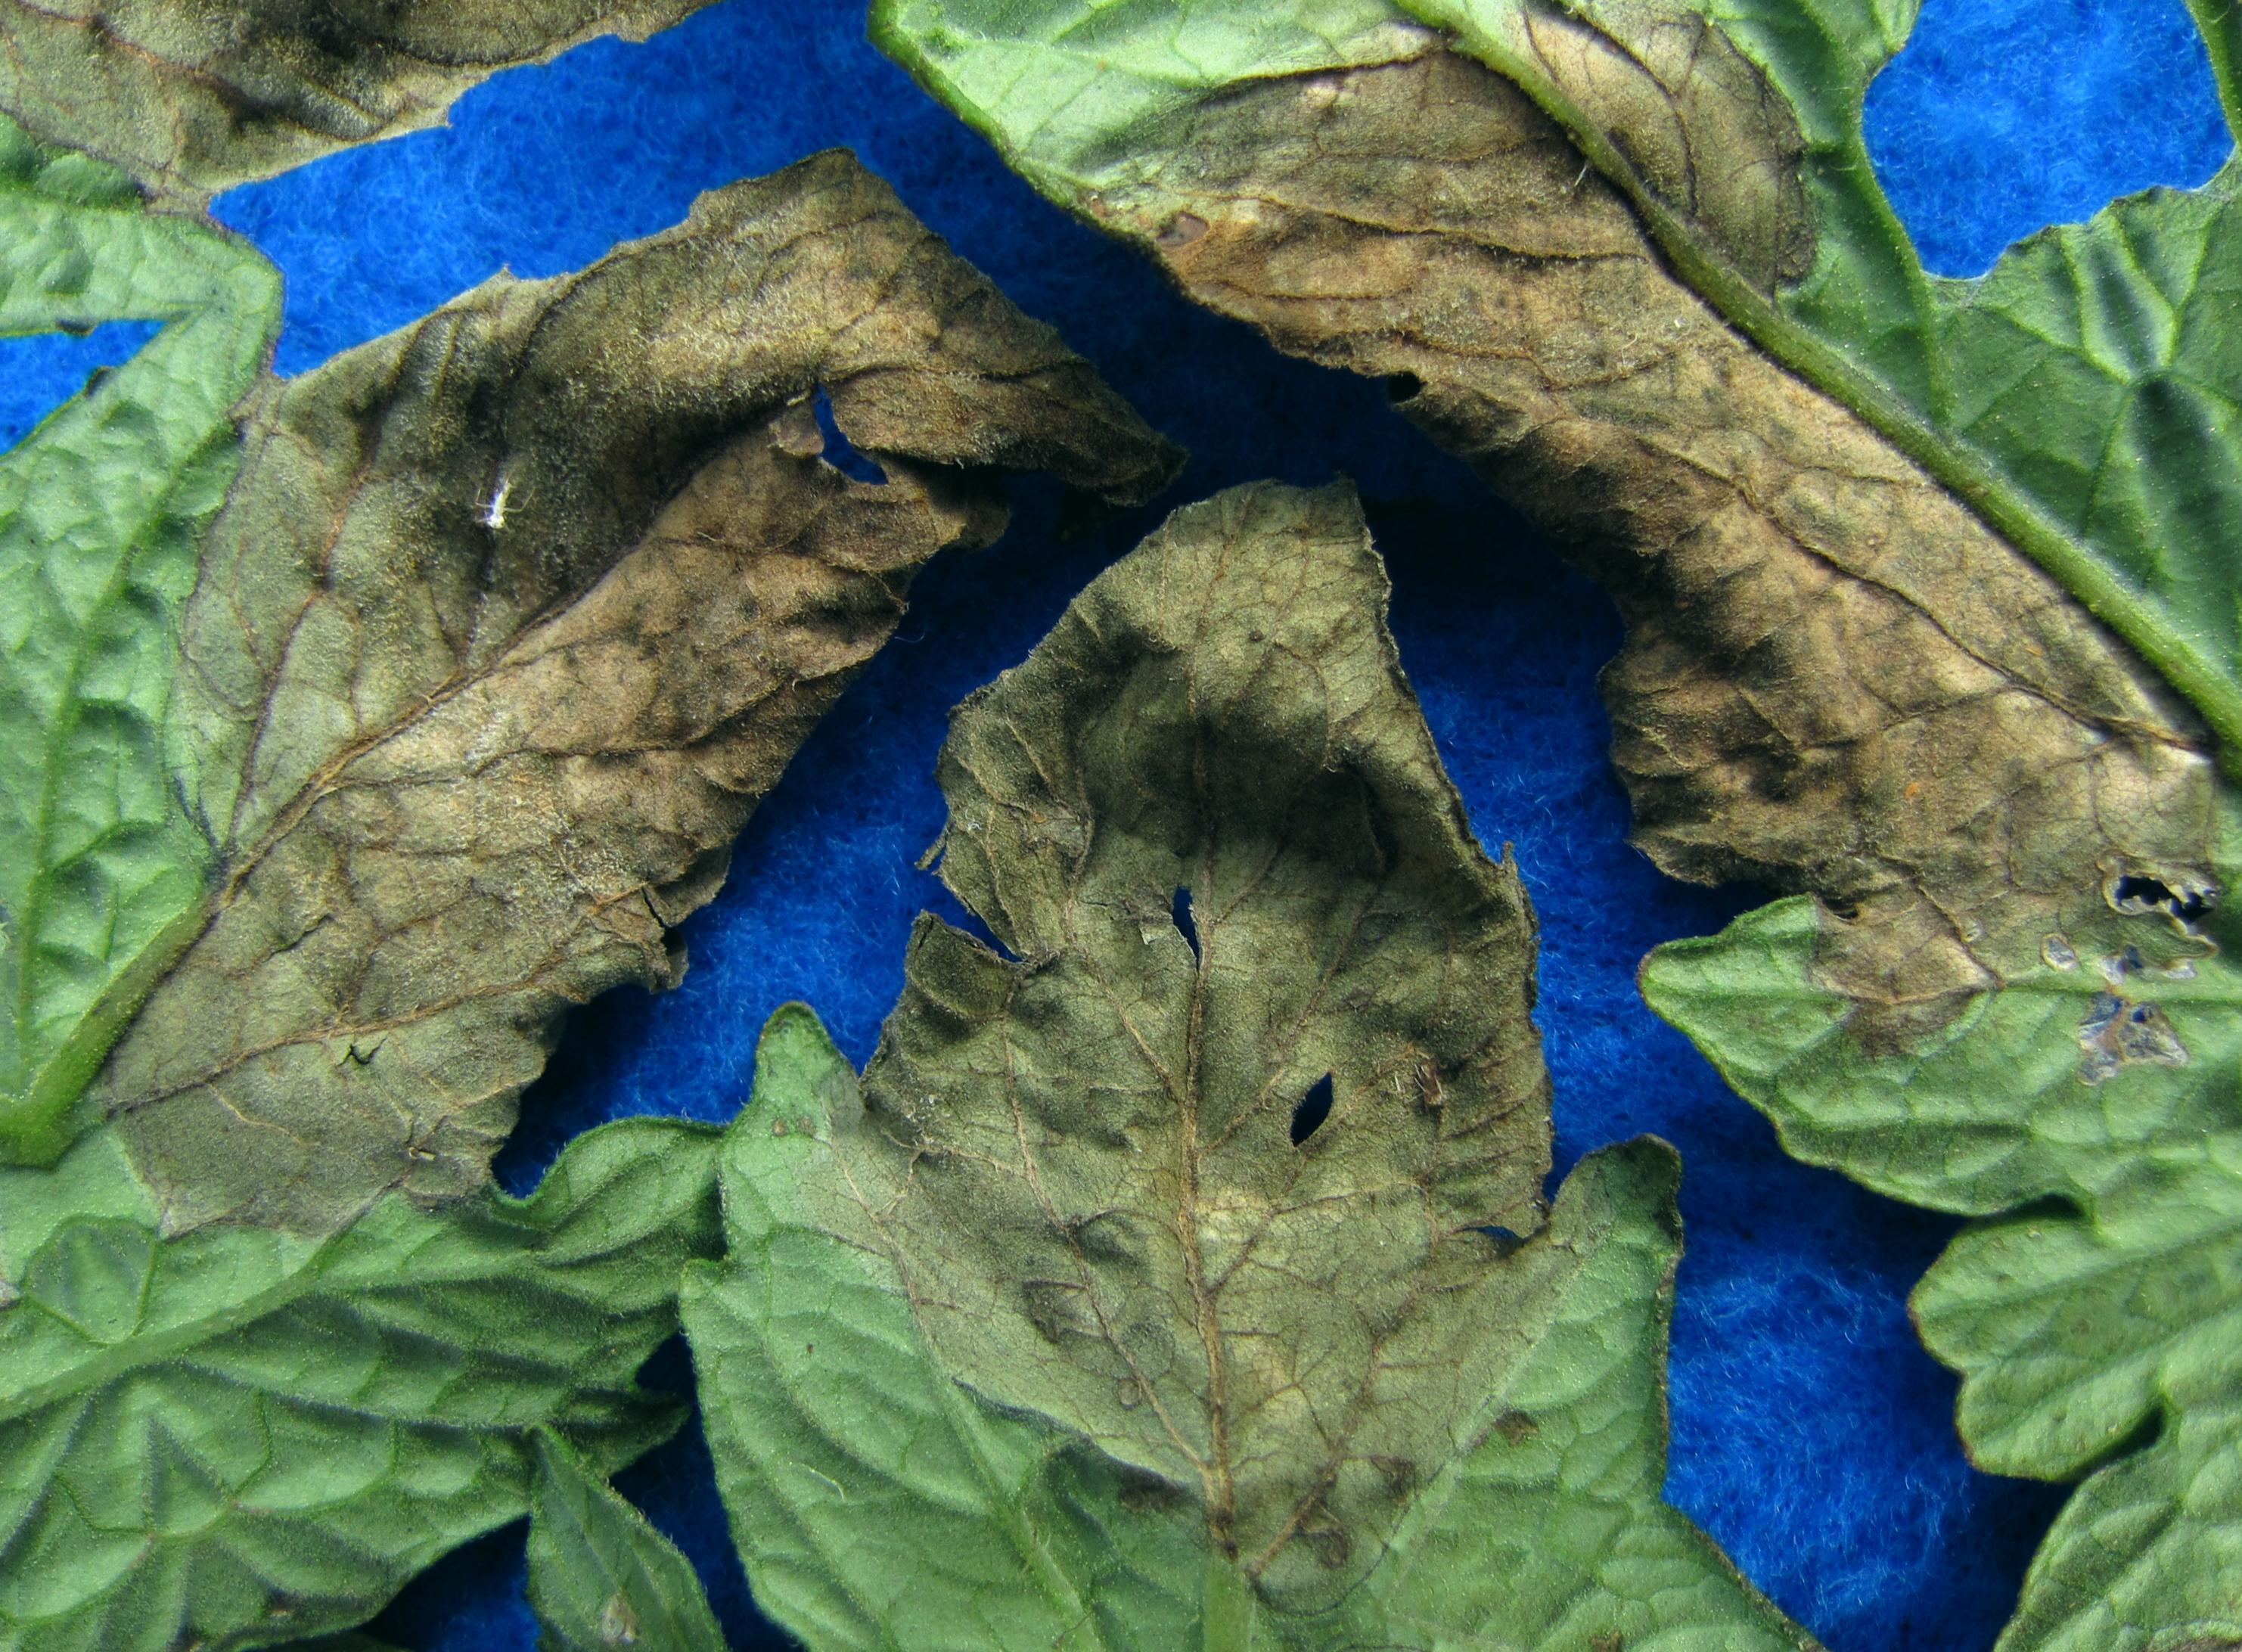Tomato leaf late blight: (0, 17, 1403, 1652), (216, 393, 1849, 1652)
